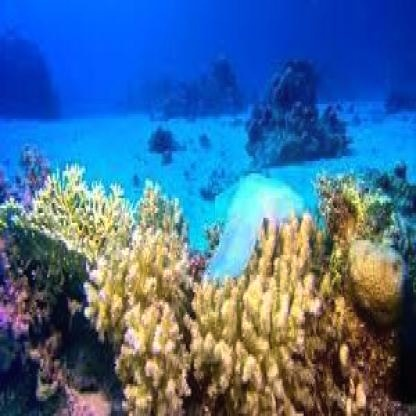pbag: (205, 171, 304, 282)
